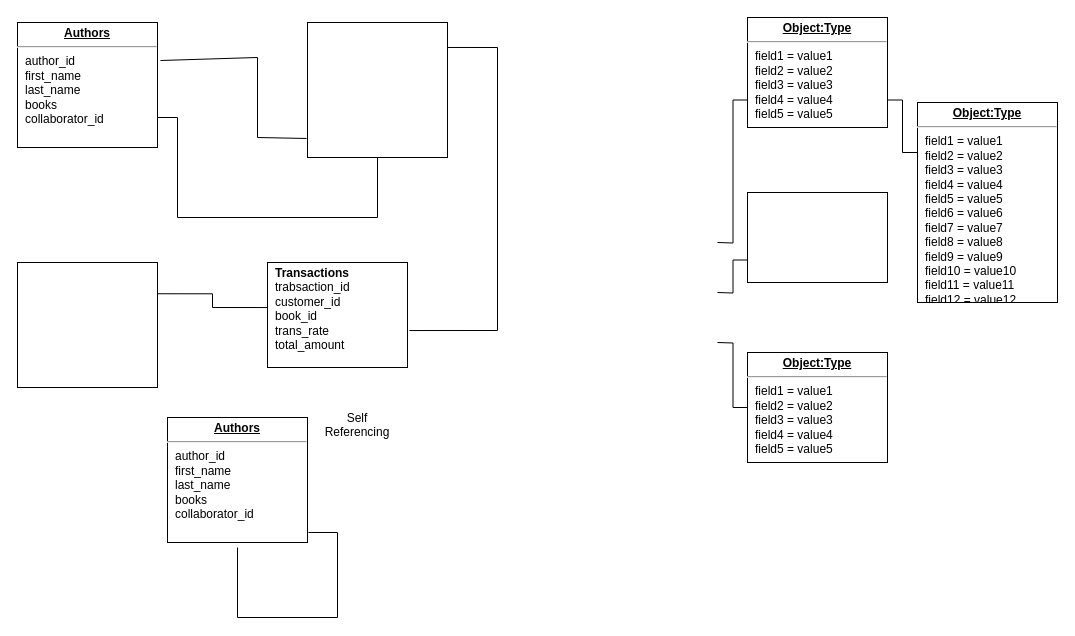
This 1075x636 diagram has some shape labels left out. The centre of each missing label's shape, as x and y in pixels:
Books book_id title publisher pub_year price author_id: point (377, 90)
Customers customer_id first_name last_name email phone: point (87, 325)
Object:Type field1 = value1 field2 = value2 field3 = value3 field4 = value4: point (817, 237)
